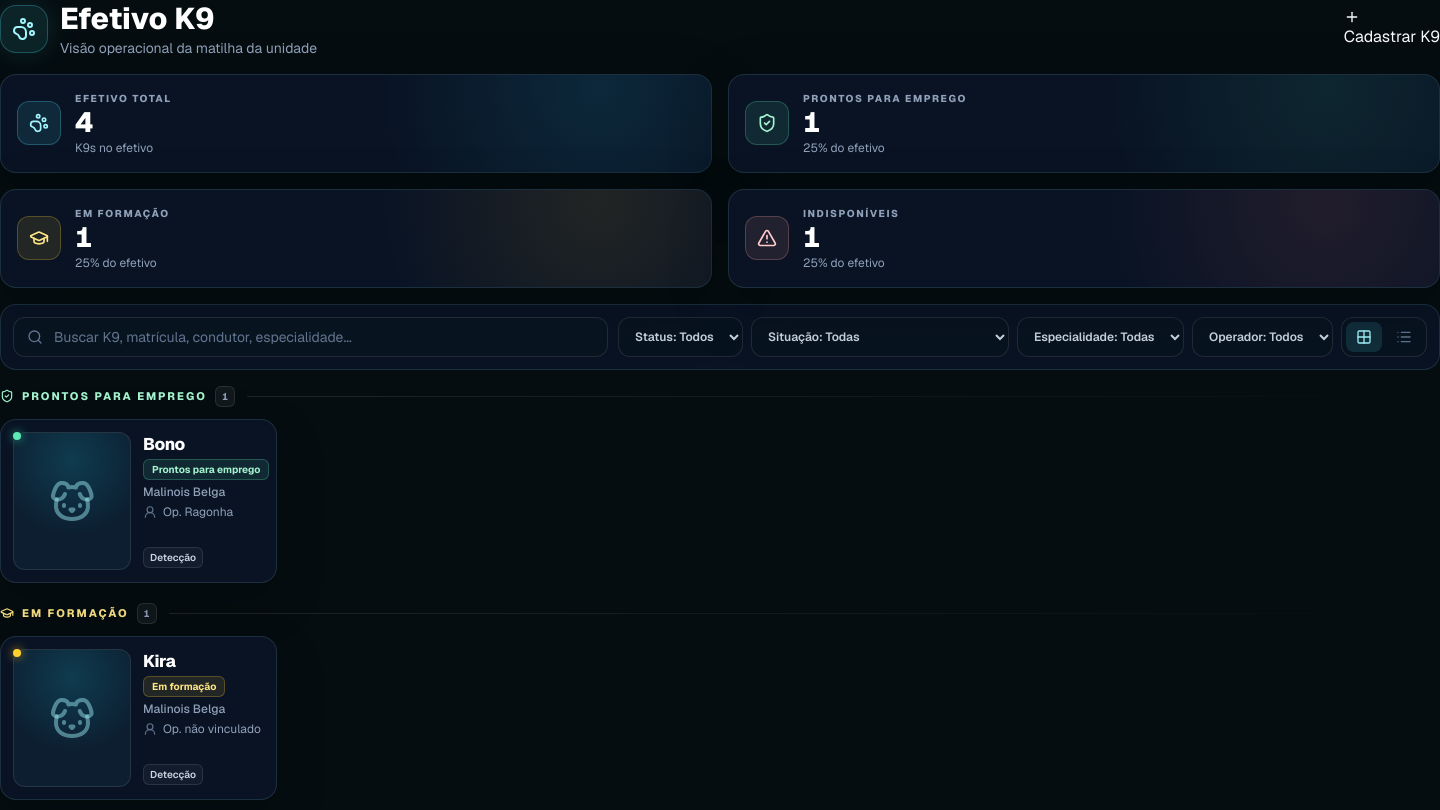
seleção e drawer › abre o drawer ao selecionar um card
Expected: the text "Detalhes do K9" is not shown
Click the button with aria-label "Bono —" at (72, 500), box [0, 418, 277, 582]
(page scrolled)
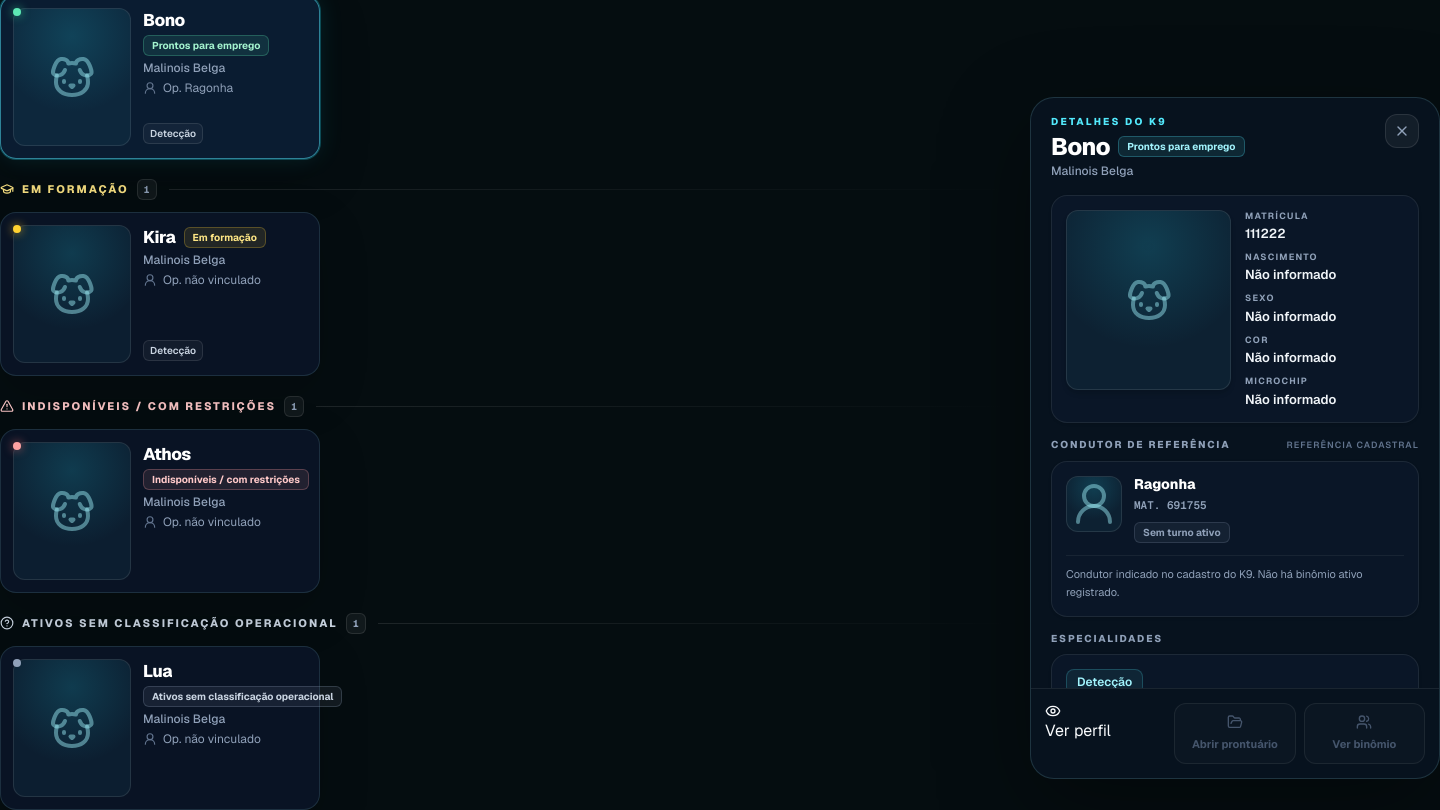
Now the text "Detalhes do K9" is shown, box [1051, 114, 1167, 127]
